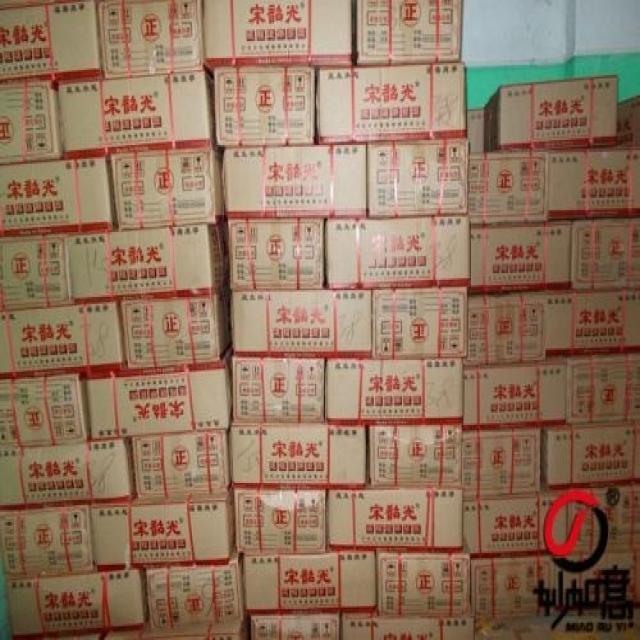box: (58, 68, 215, 160), (87, 343, 232, 440), (67, 222, 229, 304), (316, 61, 467, 145), (220, 143, 367, 220), (323, 217, 471, 288), (0, 437, 138, 512), (204, 0, 355, 68), (5, 567, 145, 640), (0, 302, 129, 381), (485, 73, 618, 148), (229, 288, 371, 357), (1, 505, 131, 580), (110, 148, 225, 230), (323, 357, 463, 423), (0, 159, 118, 237), (326, 486, 463, 553), (242, 551, 378, 618), (128, 483, 236, 567), (120, 290, 230, 370), (228, 423, 367, 486), (461, 476, 568, 555), (214, 67, 317, 147), (145, 550, 246, 631), (99, 0, 205, 77), (366, 138, 468, 217), (468, 220, 571, 297), (463, 357, 567, 428), (227, 218, 325, 292), (355, 0, 463, 65), (132, 428, 232, 498), (370, 287, 468, 358), (540, 423, 640, 492), (549, 147, 639, 220), (545, 288, 639, 357), (0, 375, 91, 445), (233, 486, 326, 553), (369, 422, 463, 488), (468, 148, 549, 224), (463, 292, 545, 367), (232, 357, 325, 423), (376, 553, 470, 616), (554, 551, 639, 620), (470, 553, 557, 620), (461, 427, 540, 498), (0, 236, 74, 311), (0, 80, 65, 164), (566, 355, 640, 428), (567, 486, 640, 555), (572, 215, 639, 290), (40, 621, 247, 640), (474, 618, 640, 640), (338, 616, 475, 640), (247, 616, 339, 640), (617, 96, 640, 148), (467, 109, 488, 154)
